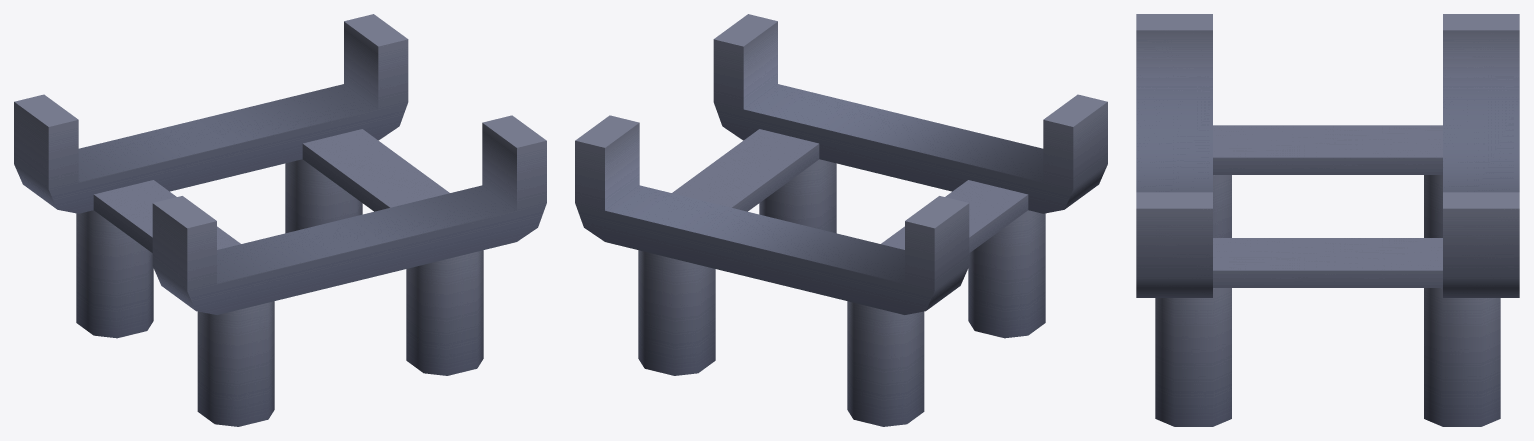
The model's file is support-four-top-double-col.glb.
The picture shows the model from 3 angles, left to right: view 1: azimuth 30°, elevation 25°; view 2: azimuth 150°, elevation 25°; view 3: azimuth 270°, elevation 25°; orthographic projection. The views are drawn at different scales.
Parts seen in each view (by area): view 1: support-four-top-double-col; view 2: support-four-top-double-col; view 3: support-four-top-double-col.
Part boxes in pixels (x1,y1,x2,y2): support-four-top-double-col: [14, 14, 546, 426]; support-four-top-double-col: [575, 14, 1107, 426]; support-four-top-double-col: [1136, 14, 1519, 426].
Size of the model in its own units: 1.2 by 0.7 by 1.
1 material, 1 textured.
